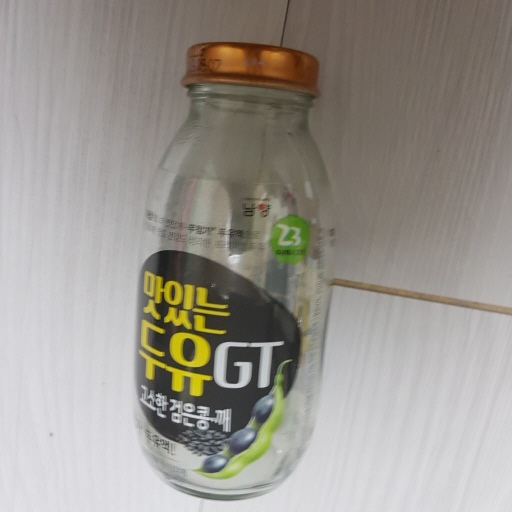Glass_4: (131, 44, 339, 501)
